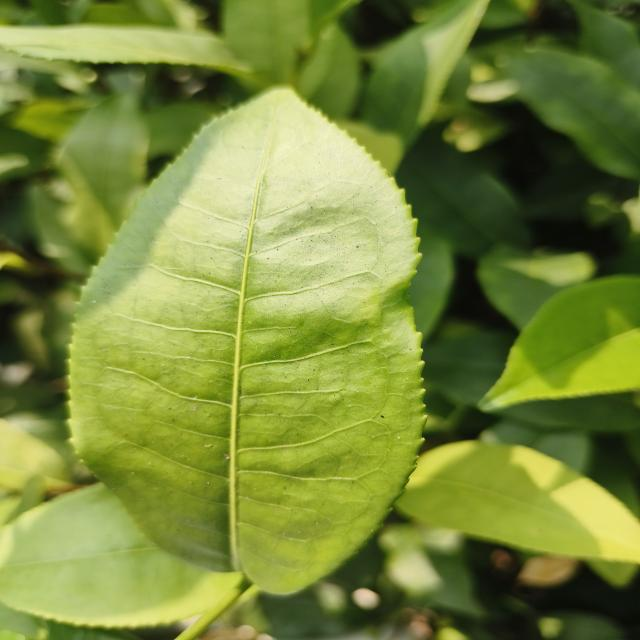Leaf: (71, 88, 424, 593), (0, 484, 242, 628), (396, 440, 640, 563), (479, 276, 640, 411), (363, 0, 489, 143), (507, 50, 640, 179), (396, 130, 529, 257), (58, 92, 149, 264), (0, 24, 252, 75), (477, 246, 596, 330), (379, 524, 484, 615), (222, 0, 311, 84), (423, 331, 514, 407), (297, 23, 360, 119), (497, 392, 640, 433)
